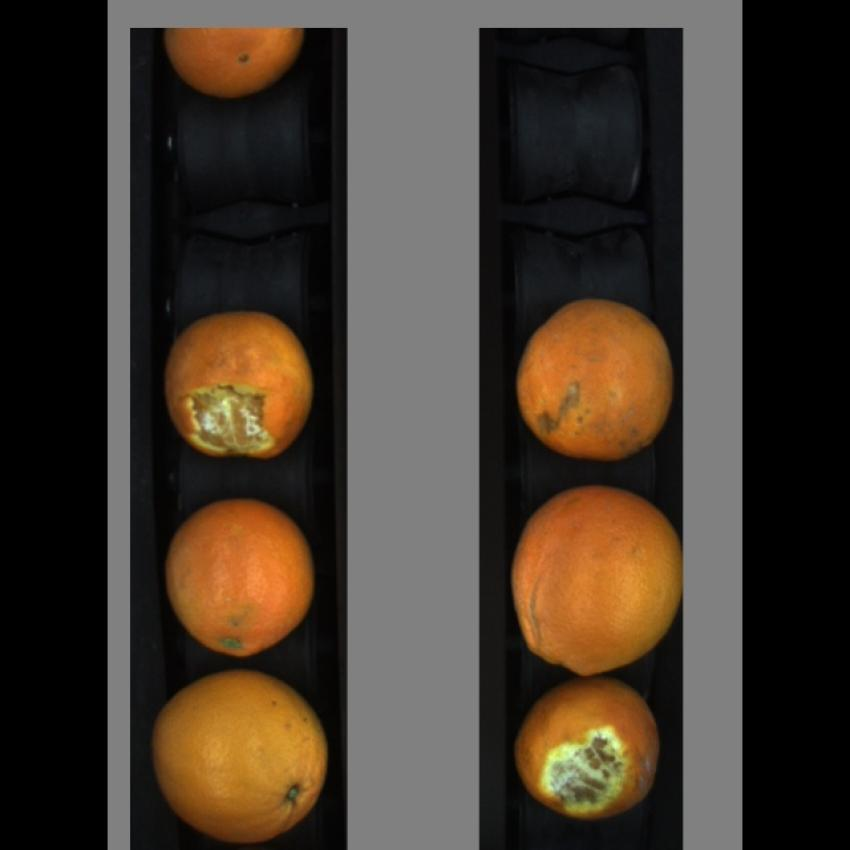Buen estado: (163, 30, 310, 100)
Mal estado: (511, 486, 681, 672), (151, 668, 328, 842), (511, 290, 676, 464), (159, 303, 320, 464), (162, 492, 314, 662), (510, 680, 668, 820)
